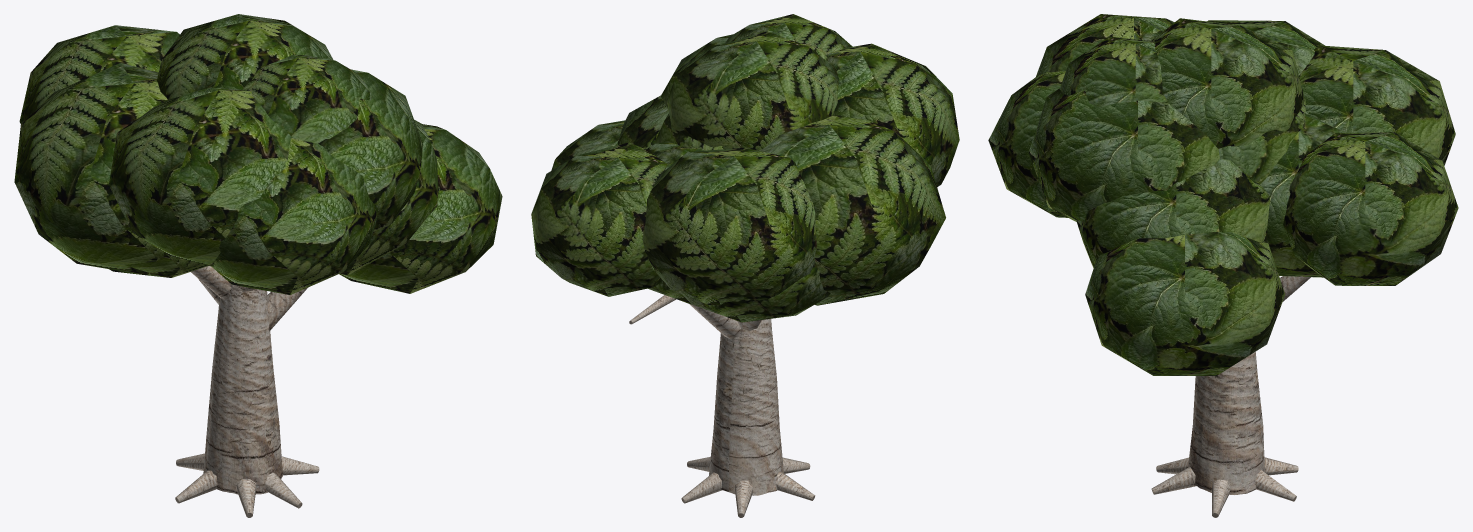
File: mature-tree-v01.glb
The picture shows the model from 3 angles, left to right: view 1: azimuth 30°, elevation 25°; view 2: azimuth 150°, elevation 25°; view 3: azimuth 270°, elevation 25°; orthographic projection. The views are drawn at different scales.
Visible parts, largest first — view 1: mature-tree; view 2: mature-tree; view 3: mature-tree.
Boxes of the visible parts, x1=… form: mature-tree: x1=14, y1=14, x2=502, y2=517; mature-tree: x1=531, y1=14, x2=959, y2=517; mature-tree: x1=988, y1=14, x2=1458, y2=517.
Bounding box in the file's own units: 7.32 × 7.76 × 7.25.
Materials: 2 (2 with a texture image).
